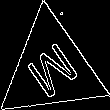M_SE: (19, 34, 83, 103)
